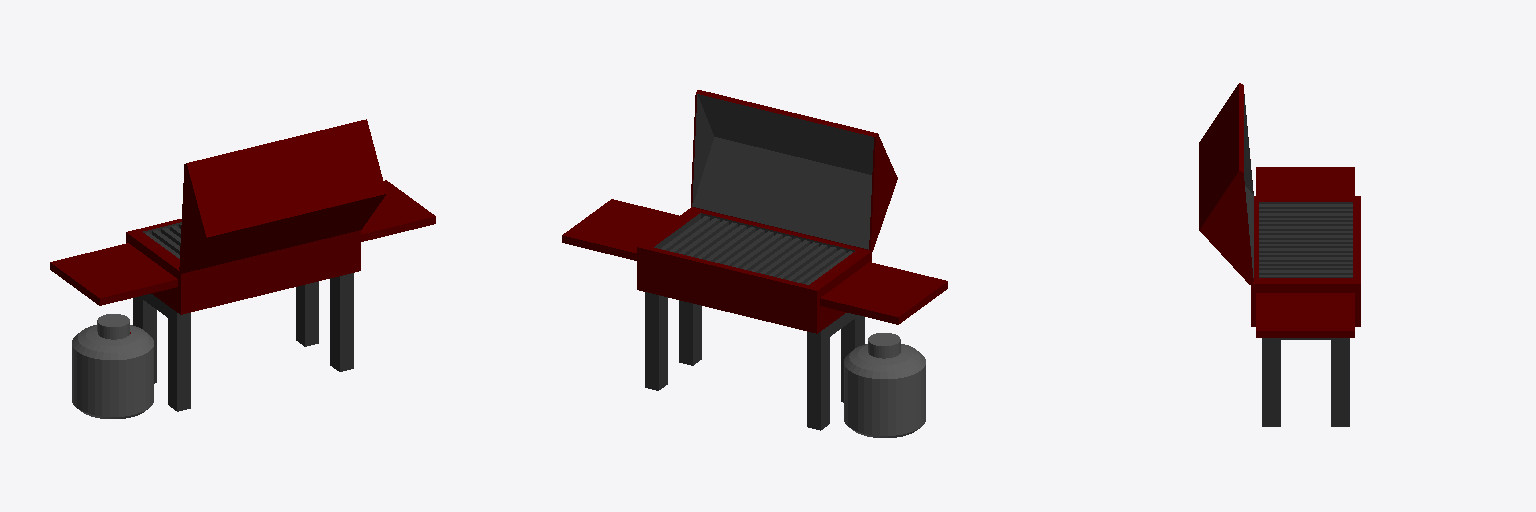
The model's file is grill.obj.
3 renders of one model, left to right at view 1: azimuth 30°, elevation 25°; view 2: azimuth 150°, elevation 25°; view 3: azimuth 270°, elevation 25°, orthographic.
Parts seen in each view (by area): view 1: Cube; view 2: Cube; view 3: Cube.
Part boxes in pixels (x1,y1,x2,y2): Cube: (50,119,435,418); Cube: (562,90,947,437); Cube: (1199,83,1360,426).
Bounding box in the file's own units: 3.73 × 2.75 × 1.55.